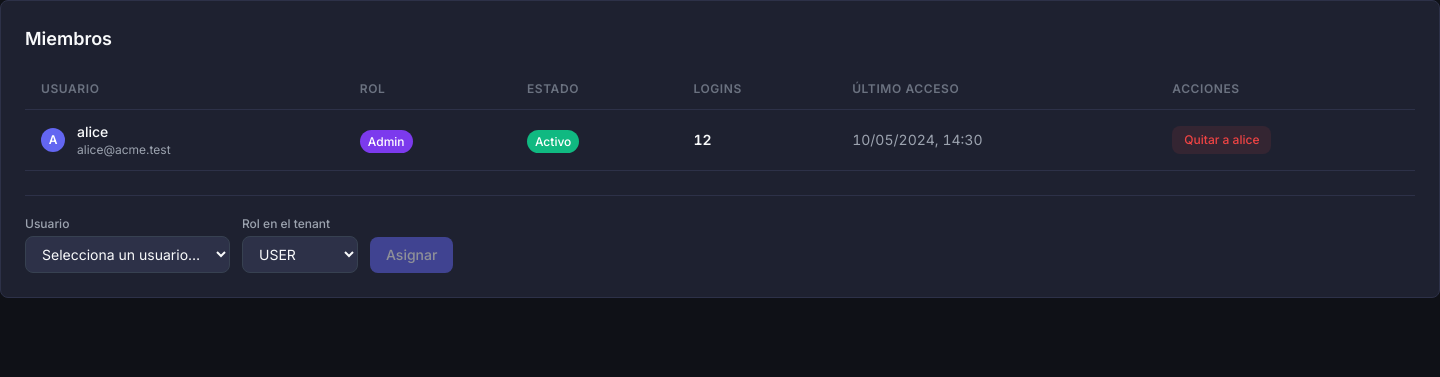
Test: TenantMembers — asignación (POST) › con un POST fallido debería mostrar el error y no romper la lista
Select "bob (bob@acme.test)" in the dropdown labelled "Usuario" at (128, 254), box [25,236,230,273]
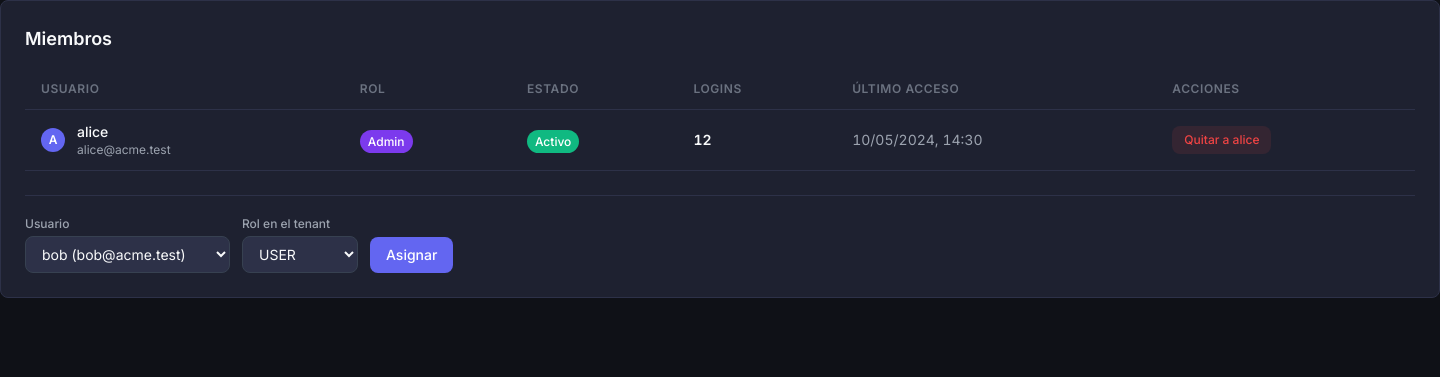
Click the button "Asignar" at (412, 255), box [370,237,453,273]
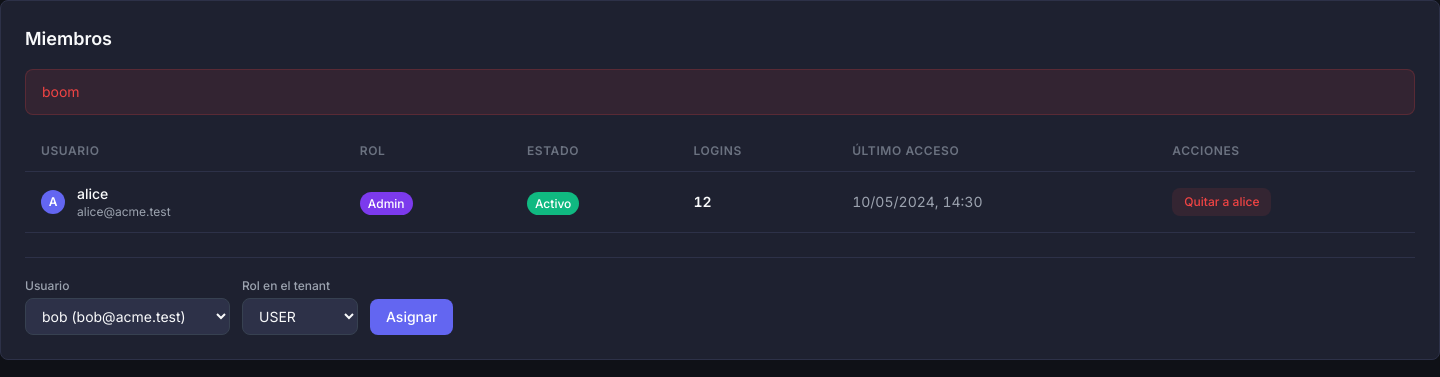
Expected: the text "alice" is shown, [77,185,108,202]
Expected: the text "boom" is shown, [25,69,1415,115]
